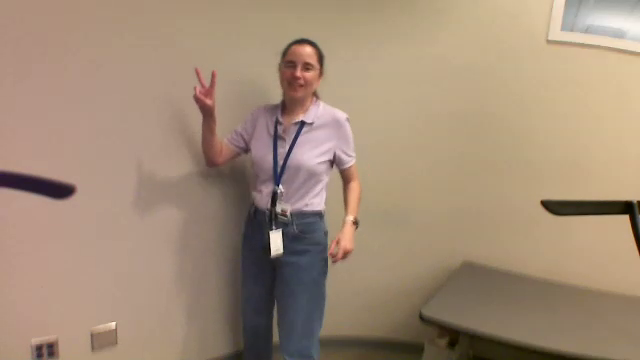peace: (191, 63, 224, 113)
